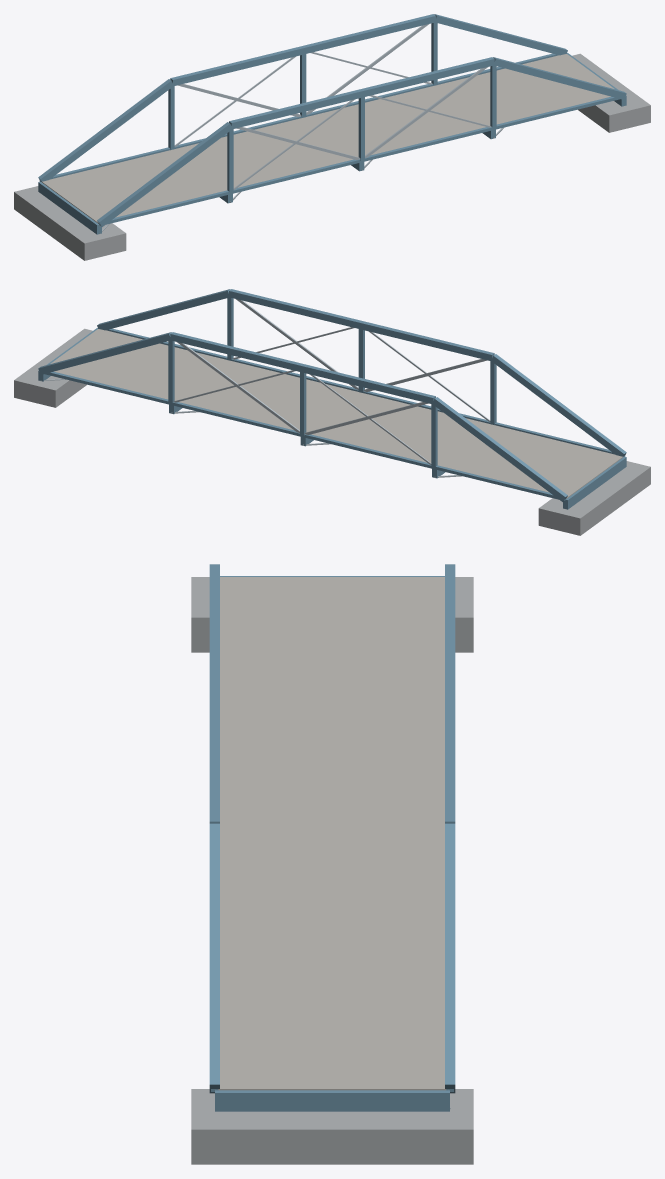
The model's file is bridge.glb.
The picture shows the model from 3 angles, top to bottom: view 1: azimuth 30°, elevation 25°; view 2: azimuth 150°, elevation 25°; view 3: azimuth 270°, elevation 25°; orthographic projection. The views are drawn at different scales.
Visible parts, largest first — view 1: deck_001, bearing_block_001, bearing_block_002, upper_chord_001, upper_chord_005, upper_chord_002, upper_chord_006, upper_chord_007, upper_chord_003, upper_chord_004, upper_chord_008, floor_beam_001 (+18 smaller); view 2: deck_001, bearing_block_001, bearing_block_002, upper_chord_001, upper_chord_005, upper_chord_006, upper_chord_002, upper_chord_003, upper_chord_007, upper_chord_008, upper_chord_004, floor_beam_001 (+18 smaller); view 3: deck_001, bearing_block_002, floor_beam_005, upper_chord_004, upper_chord_008, bearing_block_001, upper_chord_003, upper_chord_007, upper_chord_002, upper_chord_006.
Boxes of the visible parts, bbox=[...] form: deck_001: bbox=[42, 54, 614, 223]; bearing_block_001: bbox=[14, 186, 126, 260]; bearing_block_002: bbox=[572, 53, 650, 132]; upper_chord_001: bbox=[97, 122, 232, 226]; upper_chord_005: bbox=[38, 79, 173, 181]; upper_chord_002: bbox=[229, 89, 363, 128]; upper_chord_006: bbox=[170, 46, 304, 86]; upper_chord_007: bbox=[302, 14, 435, 54]; upper_chord_003: bbox=[361, 57, 494, 97]; upper_chord_004: bbox=[493, 57, 626, 99]; upper_chord_008: bbox=[434, 14, 567, 55]; floor_beam_001: bbox=[38, 181, 101, 234]; deck_001: bbox=[50, 329, 622, 498]; bearing_block_001: bbox=[538, 461, 650, 535]; bearing_block_002: bbox=[14, 328, 92, 407]; upper_chord_001: bbox=[491, 354, 626, 456]; upper_chord_005: bbox=[432, 397, 567, 501]; upper_chord_006: bbox=[301, 364, 435, 404]; upper_chord_002: bbox=[360, 321, 494, 360]; upper_chord_003: bbox=[229, 289, 362, 329]; upper_chord_007: bbox=[170, 332, 303, 372]; upper_chord_008: bbox=[38, 332, 171, 374]; upper_chord_004: bbox=[97, 289, 230, 330]; floor_beam_001: bbox=[563, 456, 626, 509]; deck_001: bbox=[218, 577, 446, 1090]; bearing_block_002: bbox=[191, 1089, 473, 1164]; floor_beam_005: bbox=[215, 1090, 449, 1111]; upper_chord_004: bbox=[209, 823, 219, 1093]; upper_chord_008: bbox=[445, 823, 455, 1093]; bearing_block_001: bbox=[191, 577, 473, 652]; upper_chord_003: bbox=[209, 693, 219, 823]; upper_chord_007: bbox=[445, 693, 455, 823]; upper_chord_002: bbox=[209, 565, 219, 693]; upper_chord_006: bbox=[445, 565, 455, 693].
Size of the model in its own units: 20.35 by 3.35 by 4.39.
